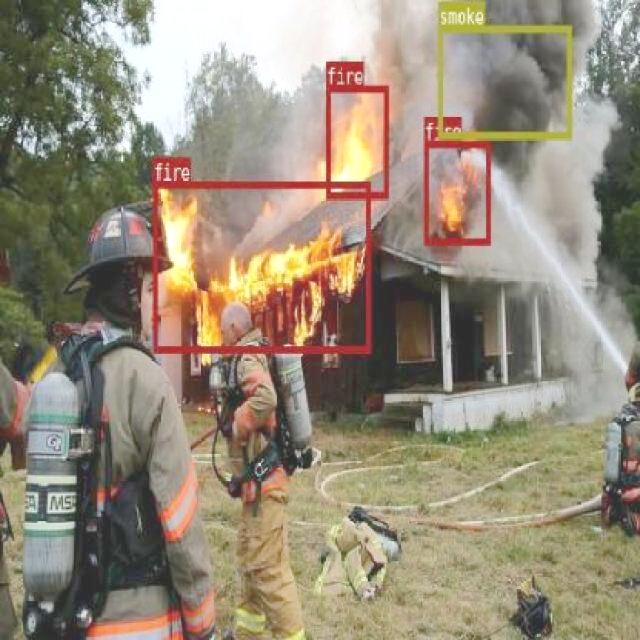fire: (152, 180, 370, 352), (325, 84, 387, 198), (424, 141, 490, 244)
smoke: (437, 25, 571, 138)
